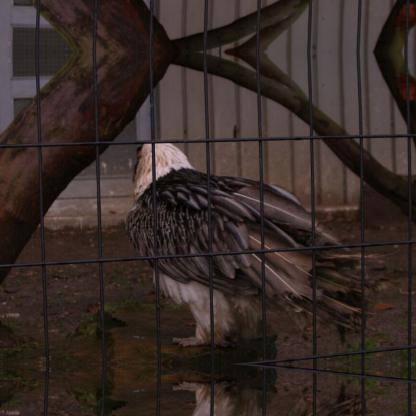Bird: (121, 127, 329, 355)
